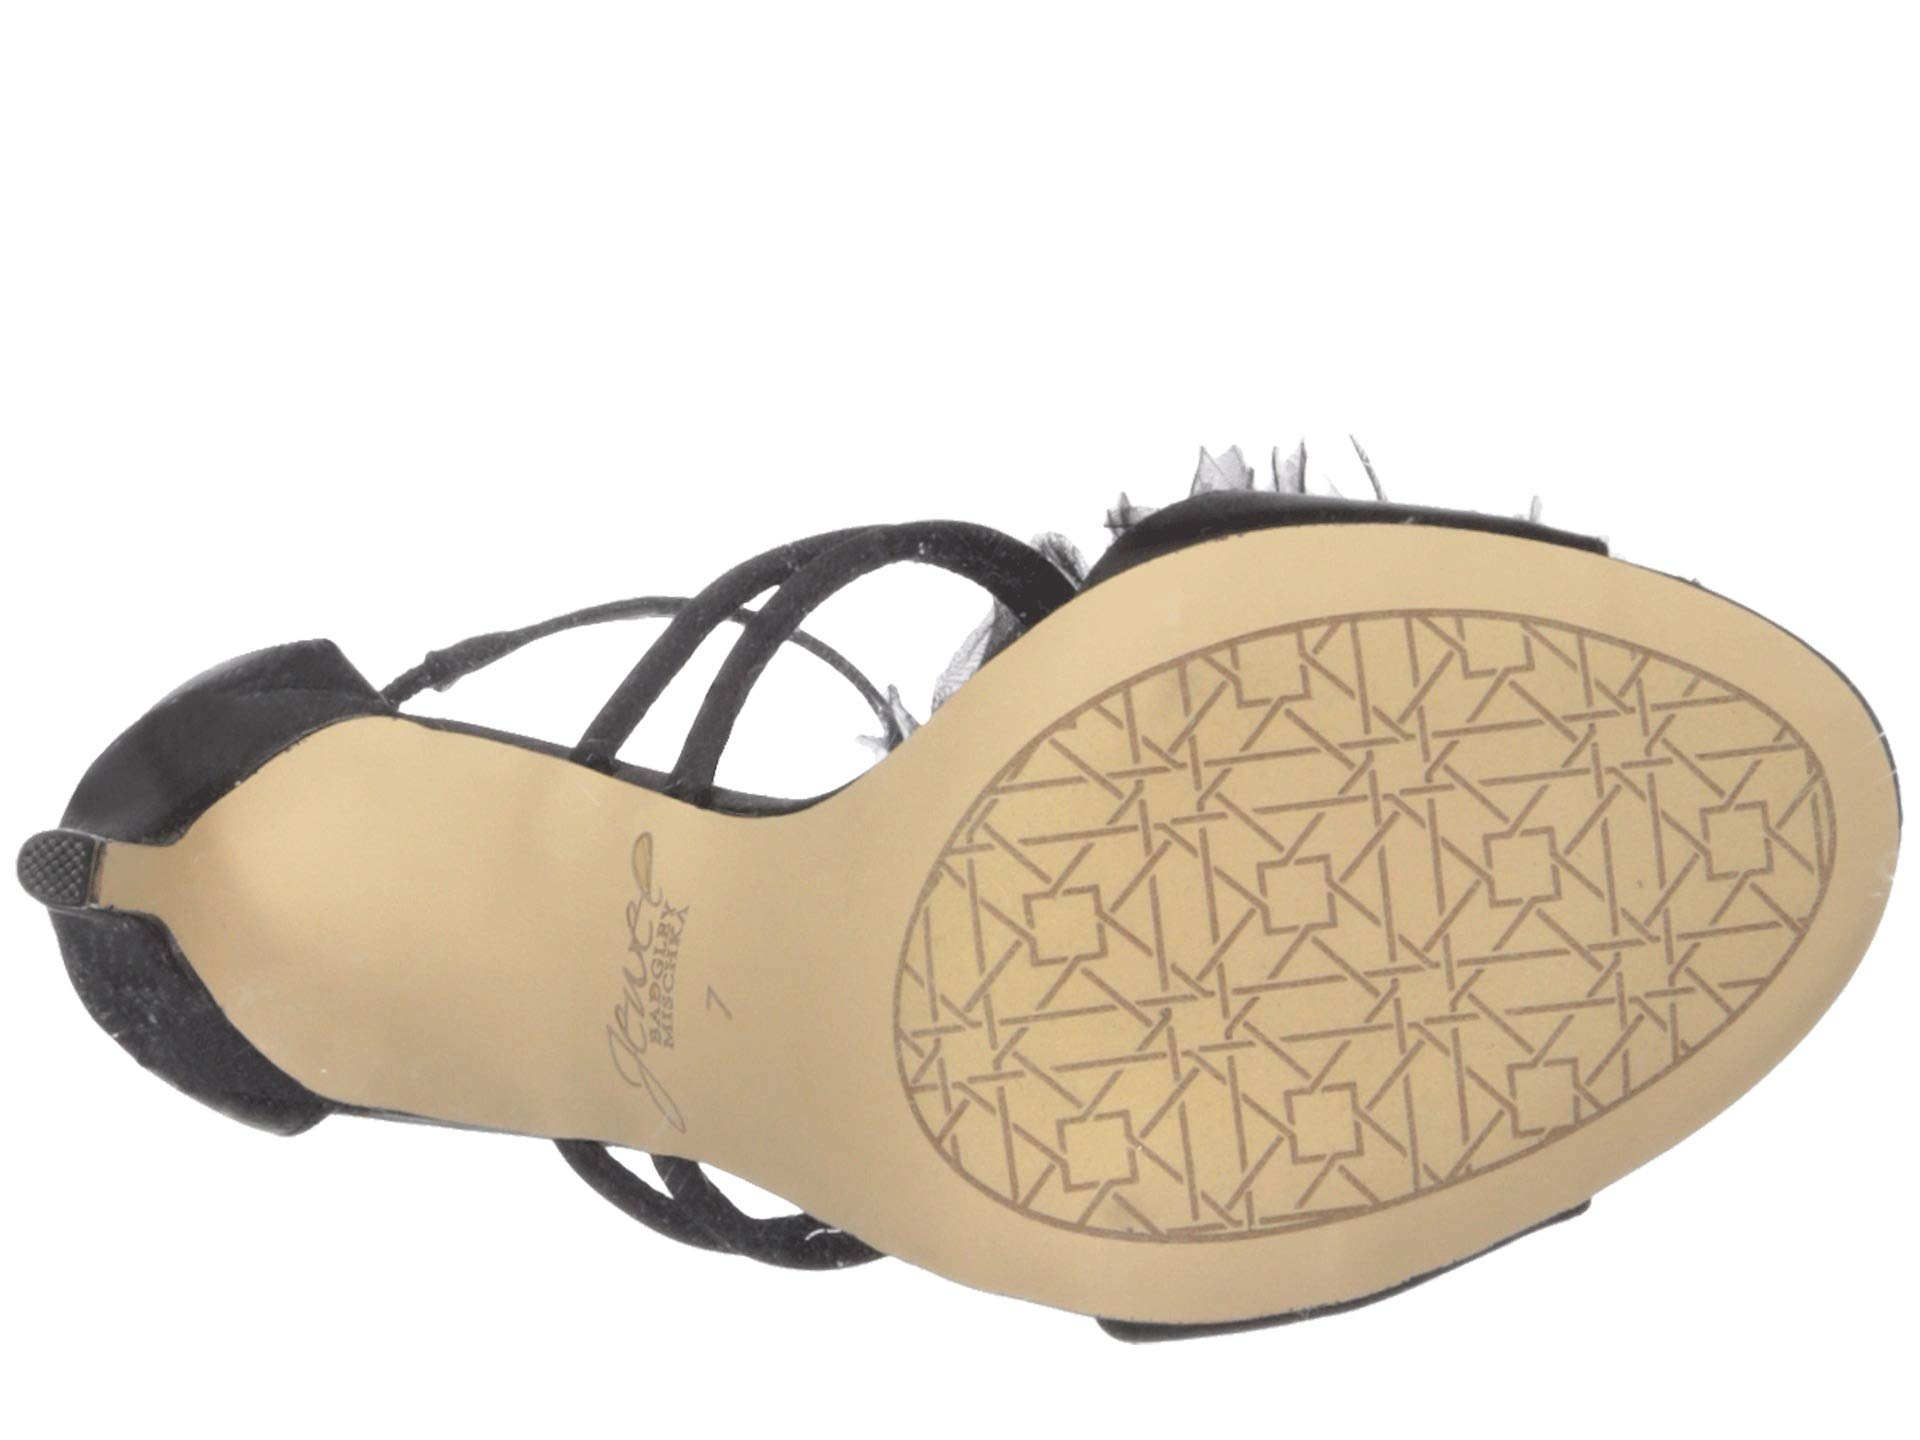polygon: (1132, 670, 1621, 1154)
quad: (1132, 670, 1621, 1154)
star: (1132, 670, 1621, 1154)
triangle: (1132, 670, 1621, 1154)
